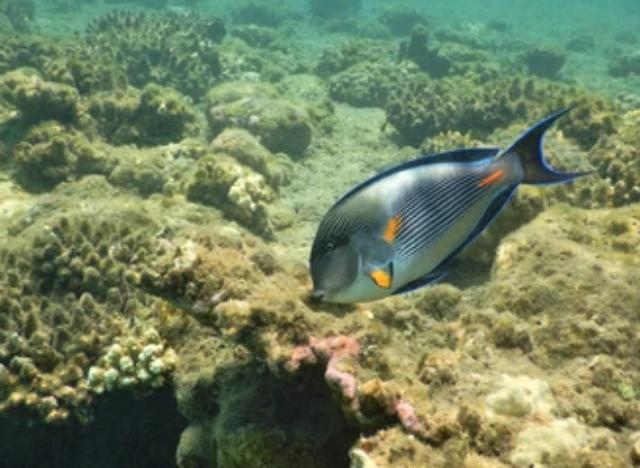Mulut: (300, 276, 338, 322)
Sirip Anal: (427, 181, 523, 267)
Sirip Dada: (355, 246, 409, 302)
Sirip Ekor: (512, 90, 610, 196)
Sirip Perut: (387, 262, 451, 302)
Sirip Punggung: (338, 143, 504, 205)
